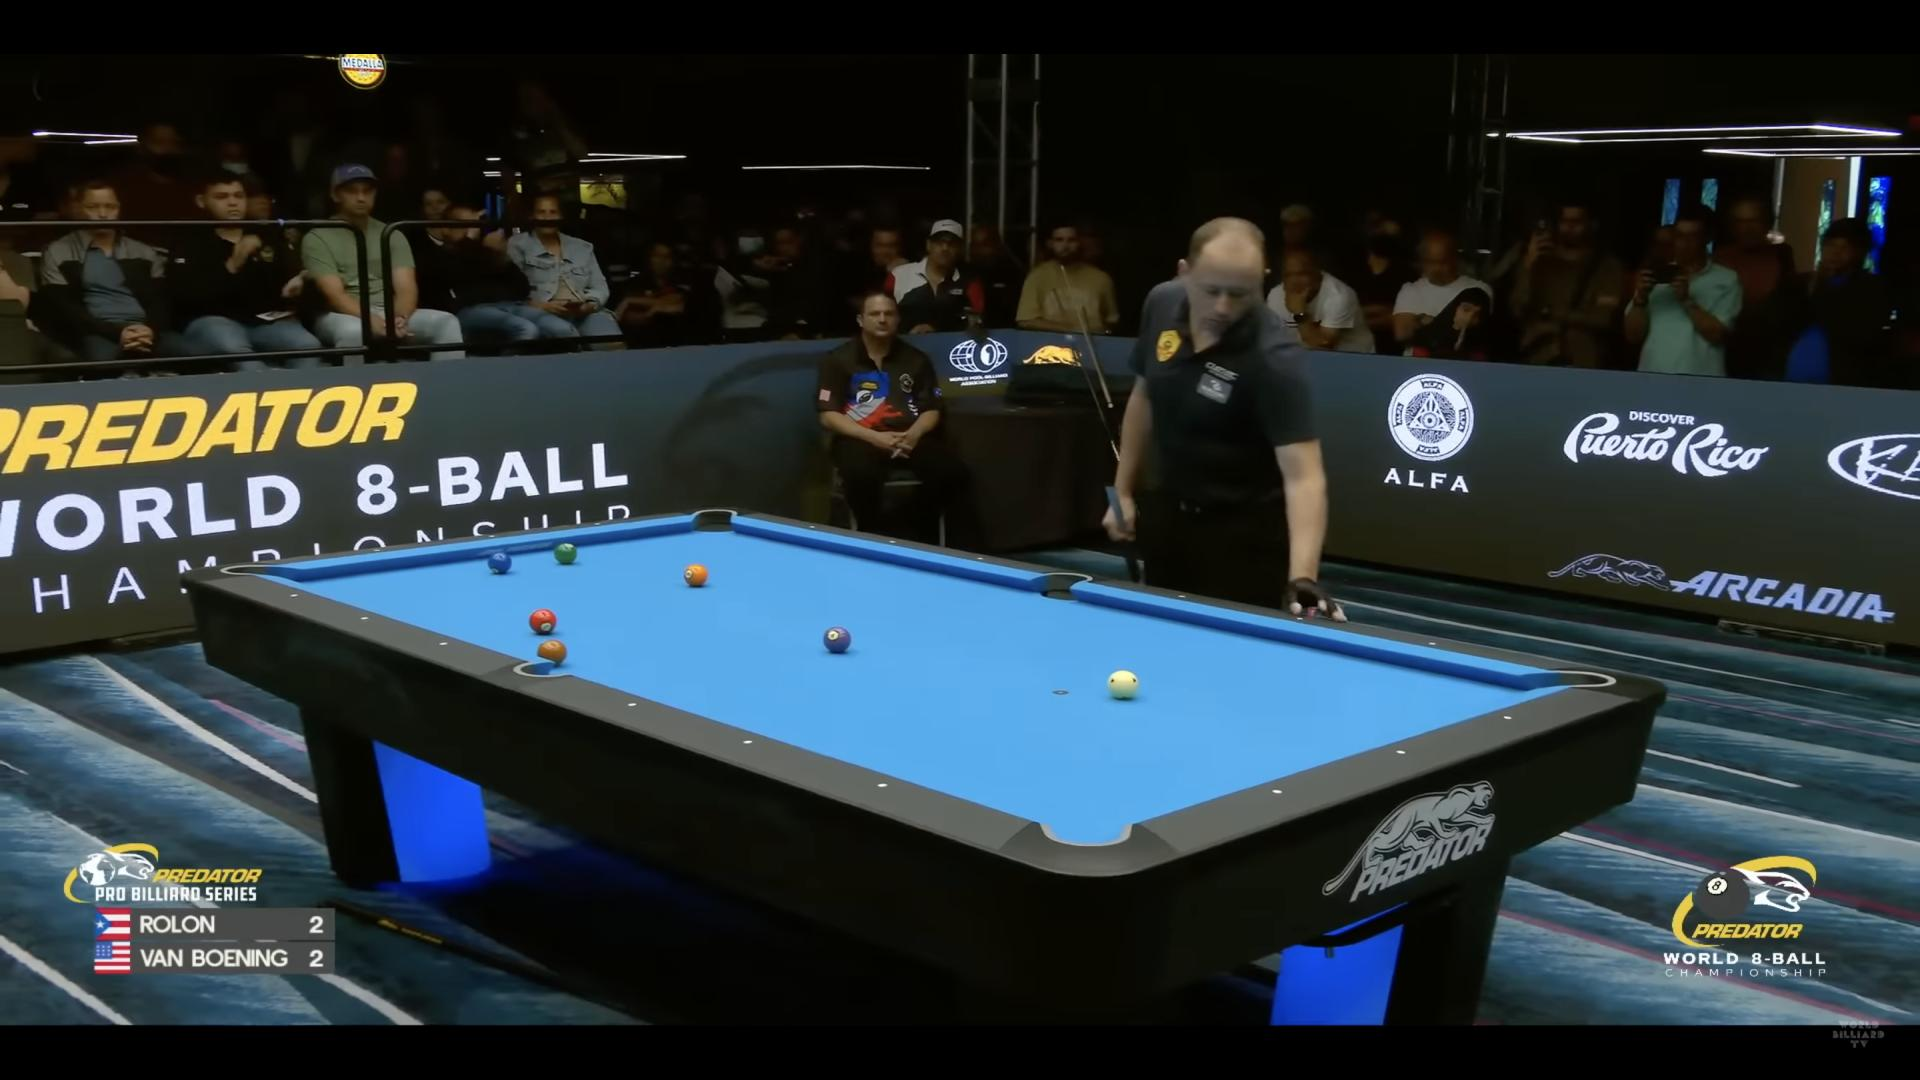Cue: (1108, 670, 1138, 699)
Dot: (874, 778, 891, 793), (738, 735, 756, 749), (622, 698, 640, 712), (438, 637, 451, 650), (356, 613, 371, 625), (1270, 786, 1283, 798), (1394, 746, 1407, 758), (1425, 637, 1439, 649), (1294, 611, 1307, 622), (1175, 592, 1188, 604), (287, 589, 301, 601), (1502, 712, 1514, 724), (487, 530, 498, 541), (592, 518, 603, 529), (372, 546, 382, 555), (977, 555, 985, 562), (887, 538, 895, 545), (807, 524, 815, 530)
Solid: (823, 626, 851, 653), (538, 640, 567, 665), (529, 608, 556, 633), (683, 564, 708, 585), (554, 543, 578, 564), (488, 553, 512, 574)
